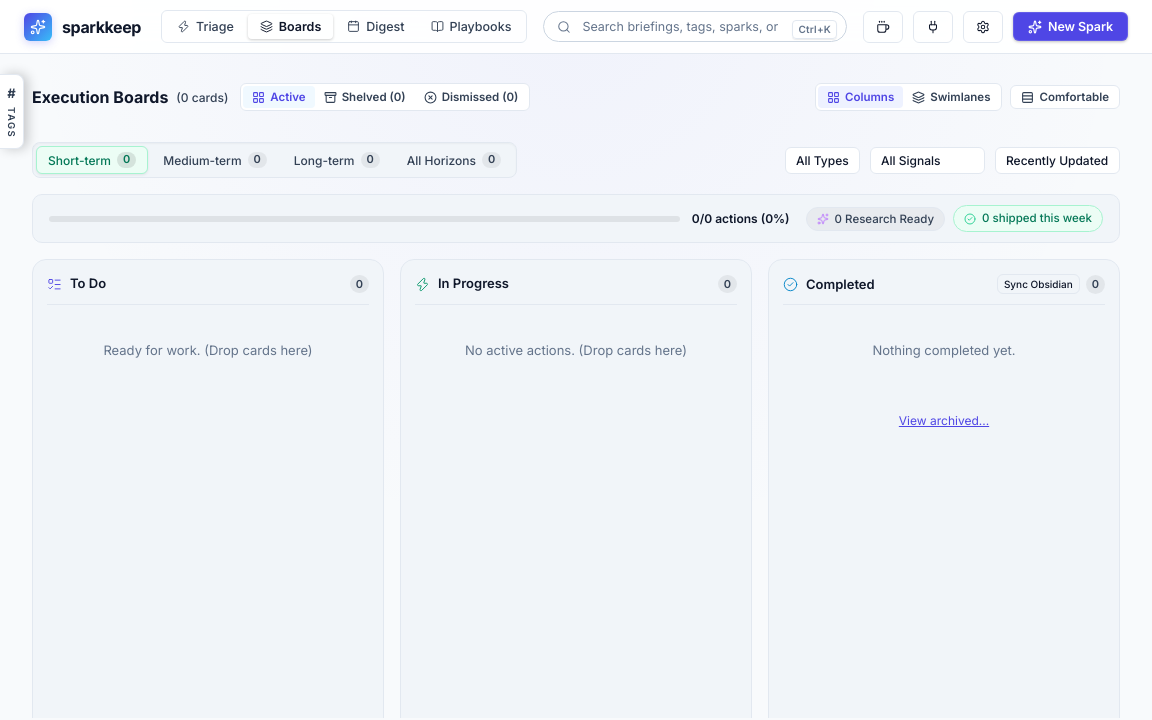
App Playbook Studio Top-Level Navigation & Full-Width Workspace › does not show Research Playbooks tab in SettingsModal since Playbooks is a primary platform view
This screenshot has width=1152, height=720.
# Open Settings Modal
Click the button named "Settings" at (983, 26), box top-left (963, 10), bottom-right (1003, 42)
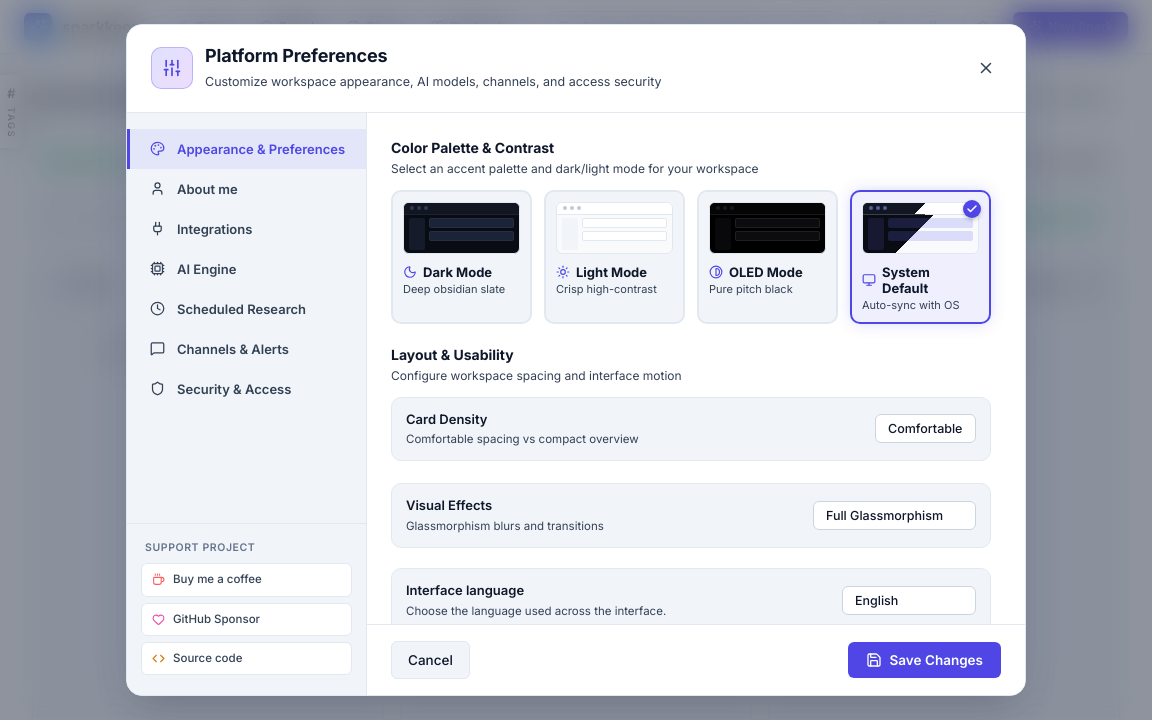
Now the heading "Platform Preferences" is shown, box top-left (205, 45), bottom-right (387, 68)
